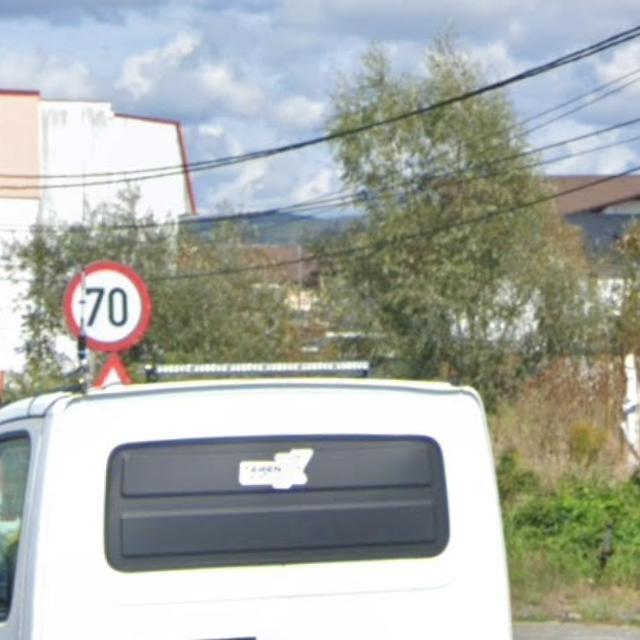forb_speed_over_70: (66, 263, 155, 354)
